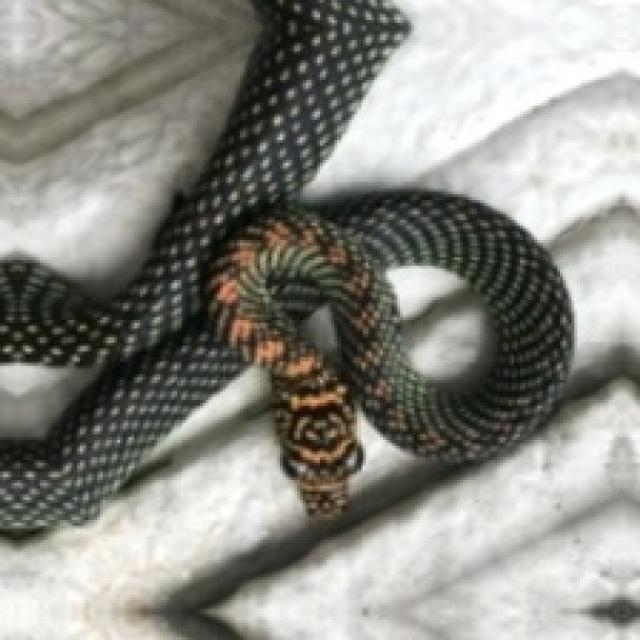paradise tree snake: (0, 0, 571, 529), (209, 191, 571, 511), (383, 263, 491, 386), (383, 263, 480, 374)
